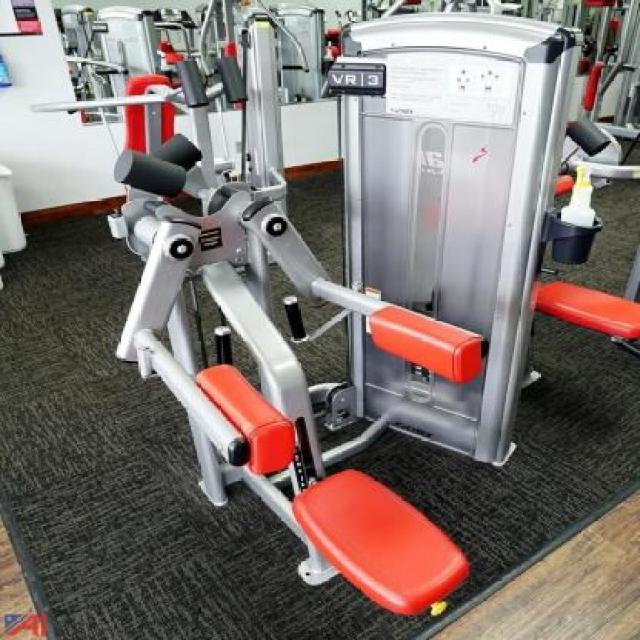lateral raises machine: (106, 129, 491, 623)
